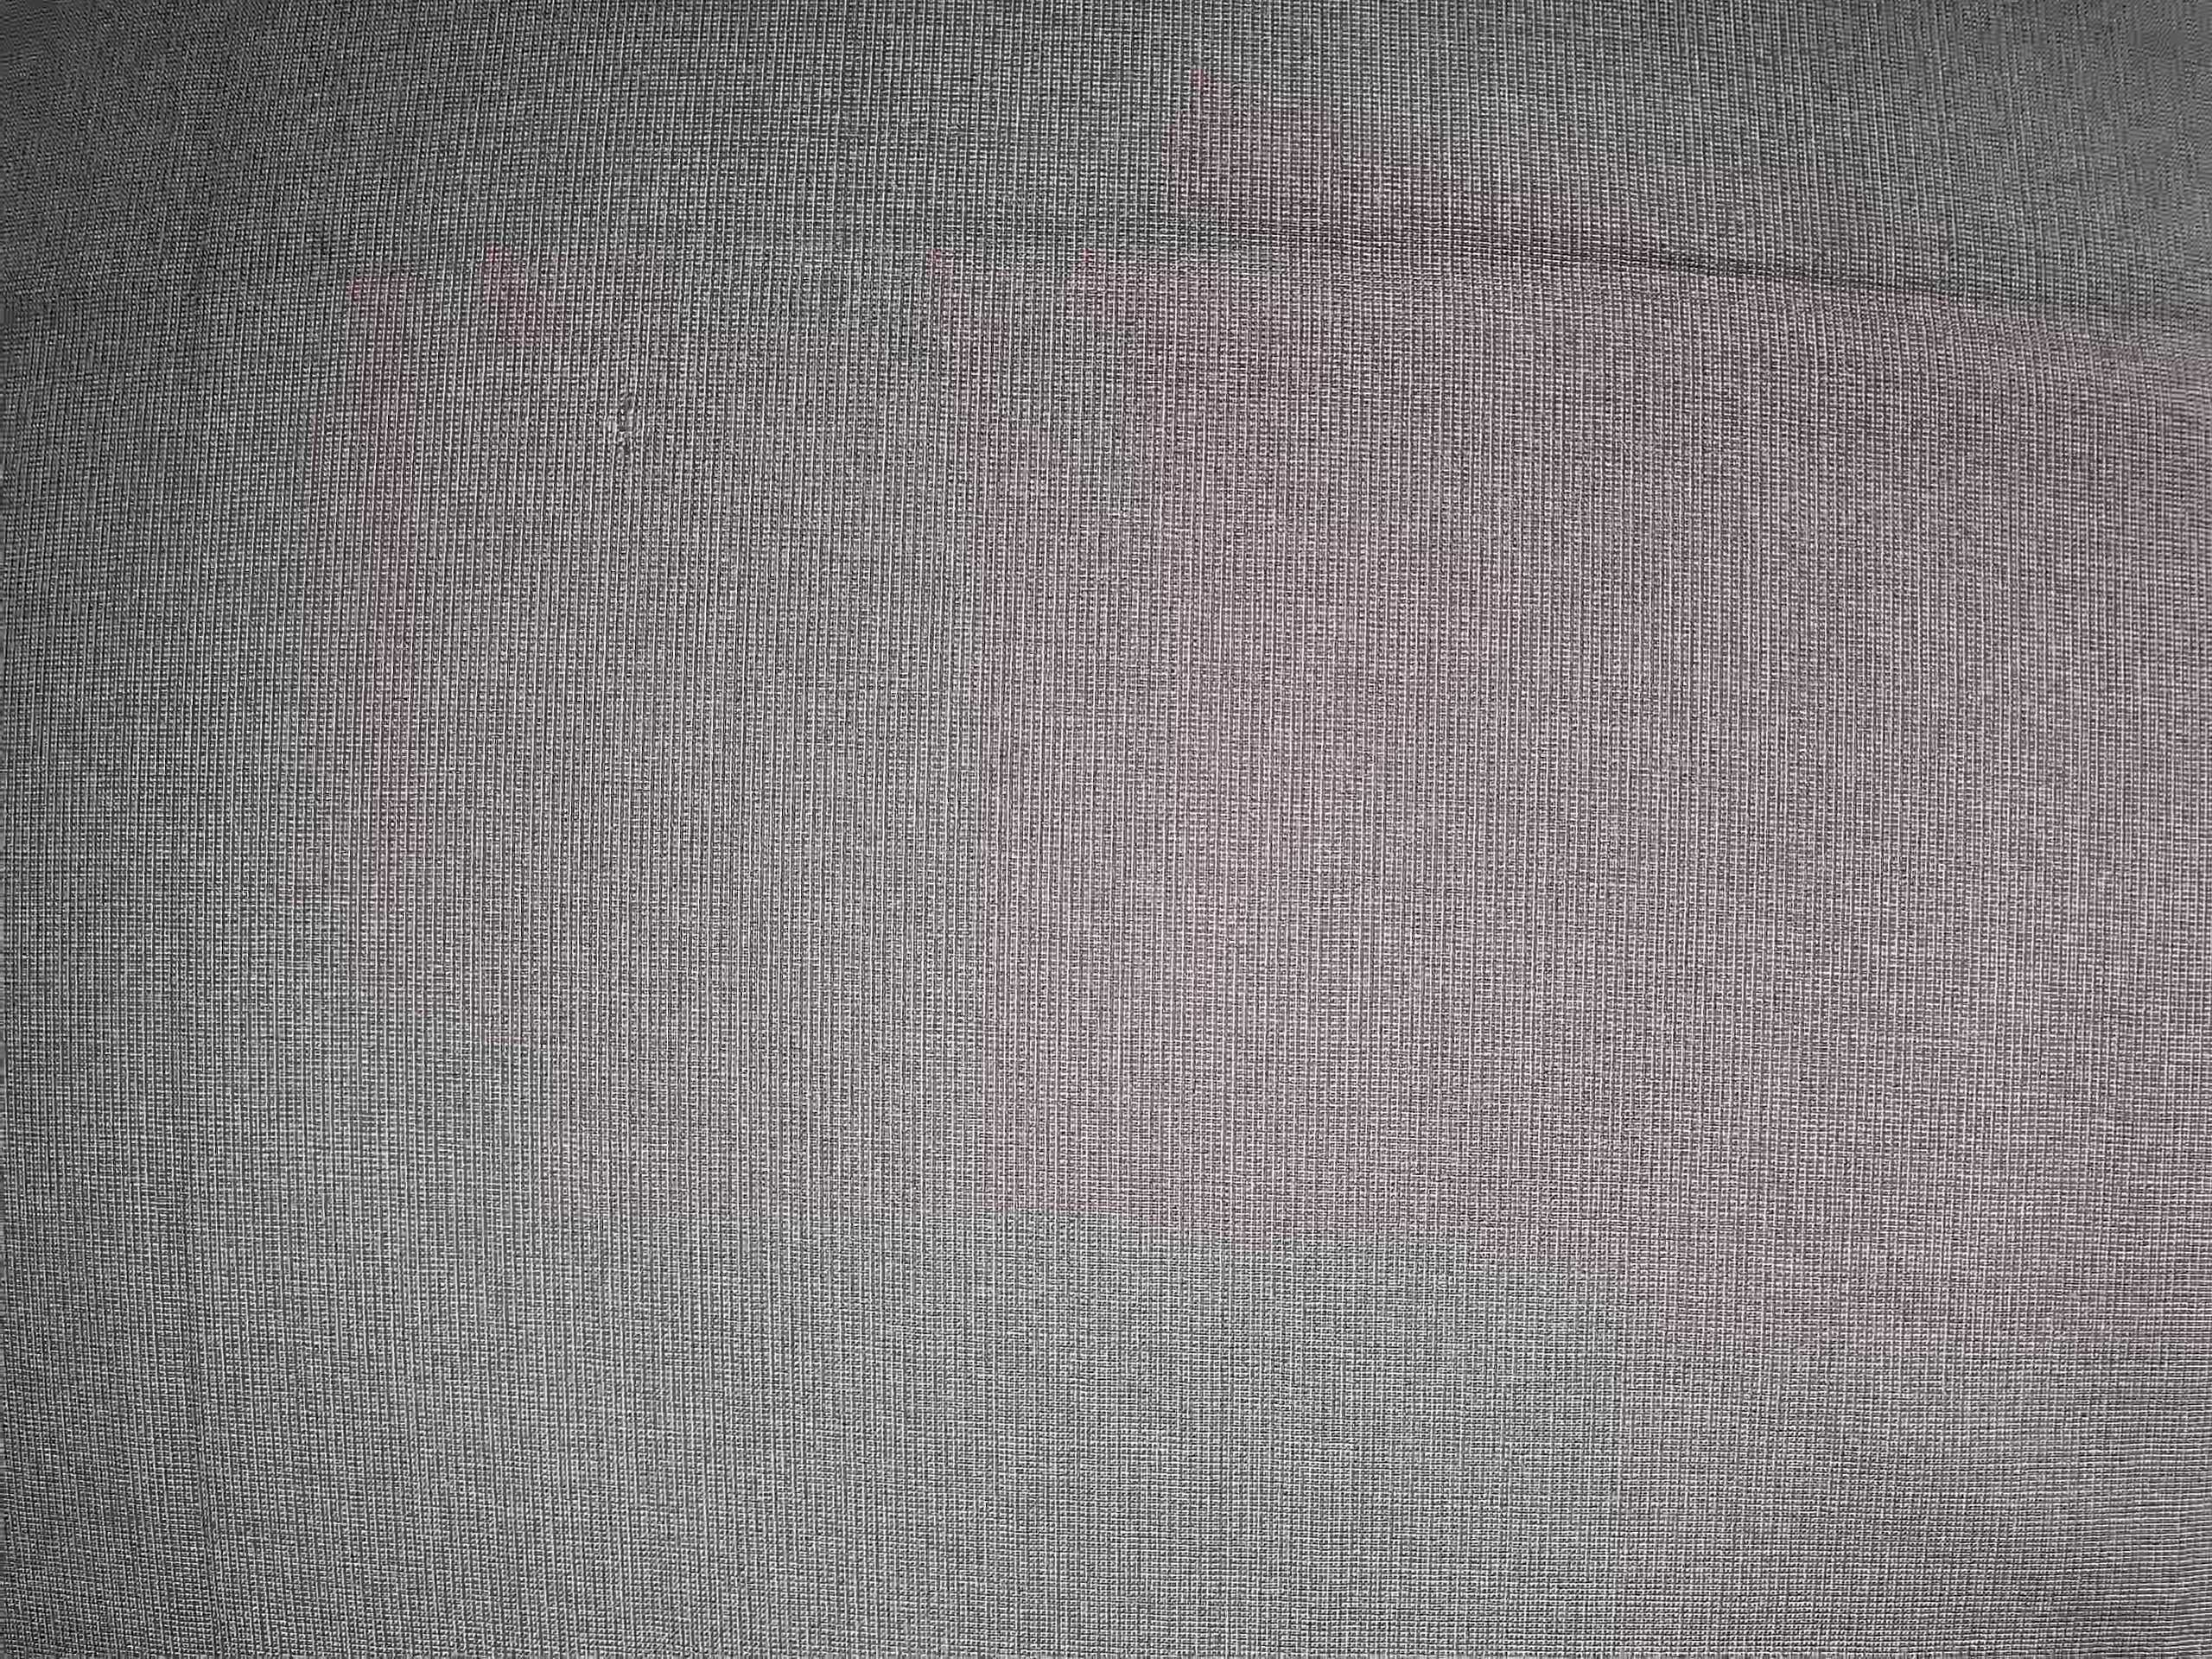knots: (594, 376, 664, 472)
